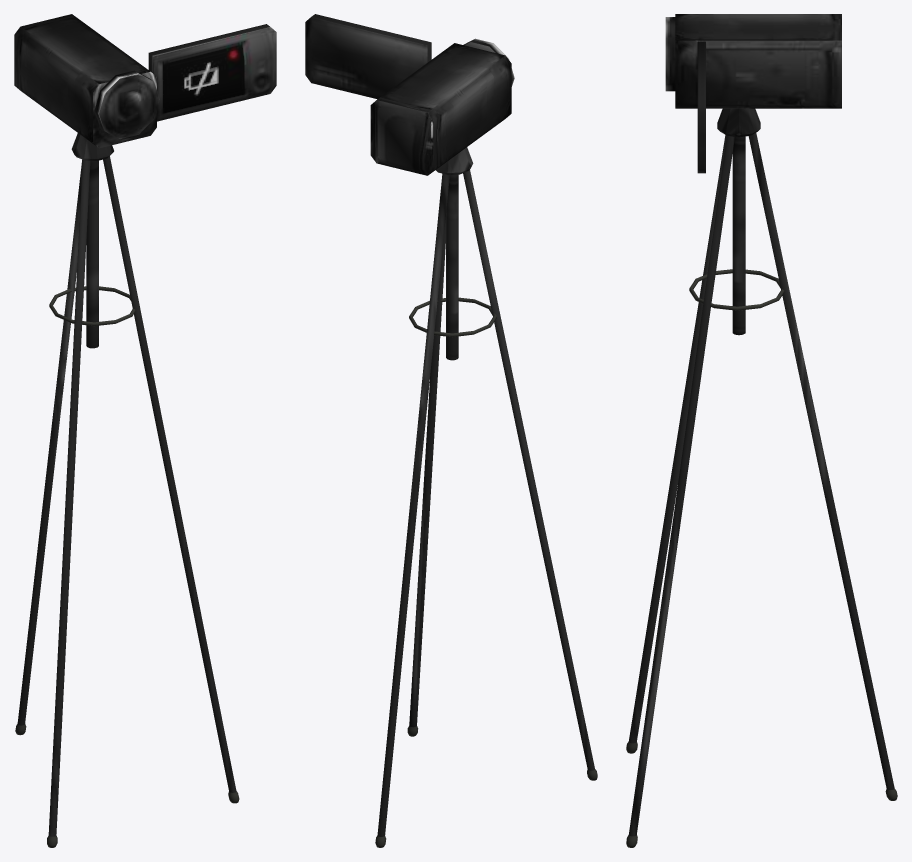
Rendered from camcorder.FBX.
3 views of the same model, side by side, from view 1: azimuth 30°, elevation 25°; view 2: azimuth 150°, elevation 25°; view 3: azimuth 270°, elevation 25° (orthographic). The views are drawn at different scales.
Parts seen in each view (by area): view 1: camcorder; view 2: camcorder; view 3: camcorder.
Part boxes in pixels (bbox=[...]): camcorder: bbox=[14, 14, 276, 847]; camcorder: bbox=[305, 14, 597, 847]; camcorder: bbox=[626, 14, 897, 847].
Size of the model in its own units: 57.15 by 154 by 48.8.
